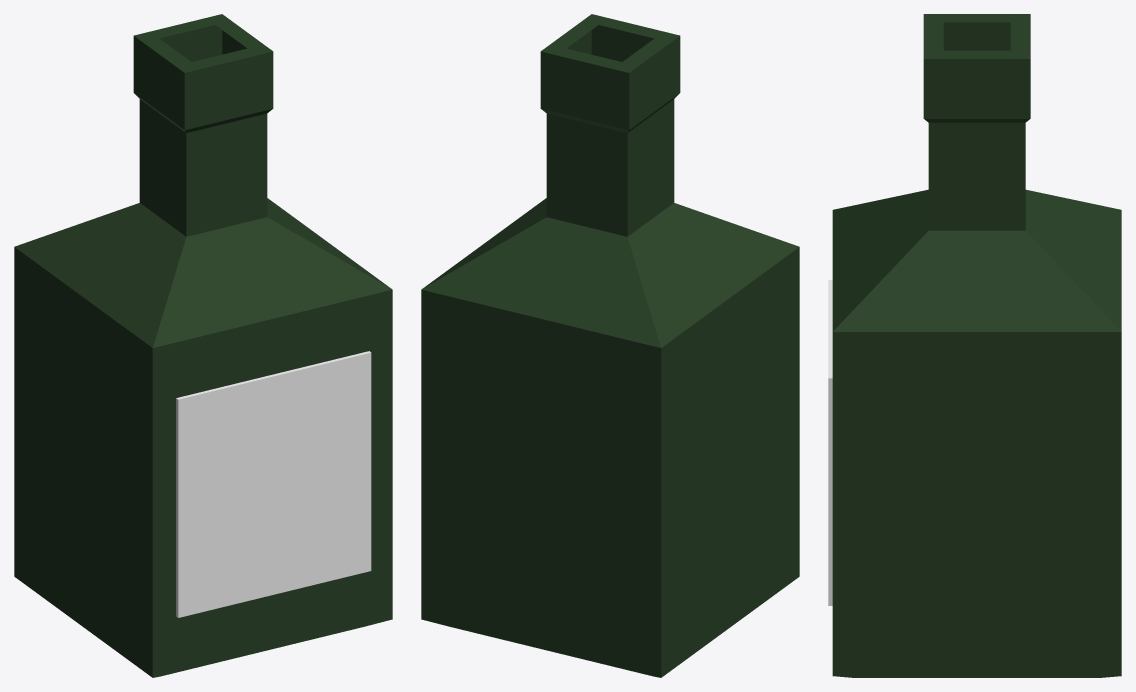
The model's file is red_potion.fbx.
3 renders of one model, left to right at view 1: azimuth 30°, elevation 25°; view 2: azimuth 150°, elevation 25°; view 3: azimuth 270°, elevation 25°, orthographic. The views are drawn at different scales.
Visible parts, largest first — view 1: Box007; view 2: Box007; view 3: Box007.
Part boxes in pixels (x1,y1,x2,y2): Box007: (14, 14, 392, 677); Box007: (421, 14, 799, 677); Box007: (828, 14, 1121, 677).
Bounding box in the file's own units: 55 × 124 × 55.83.
